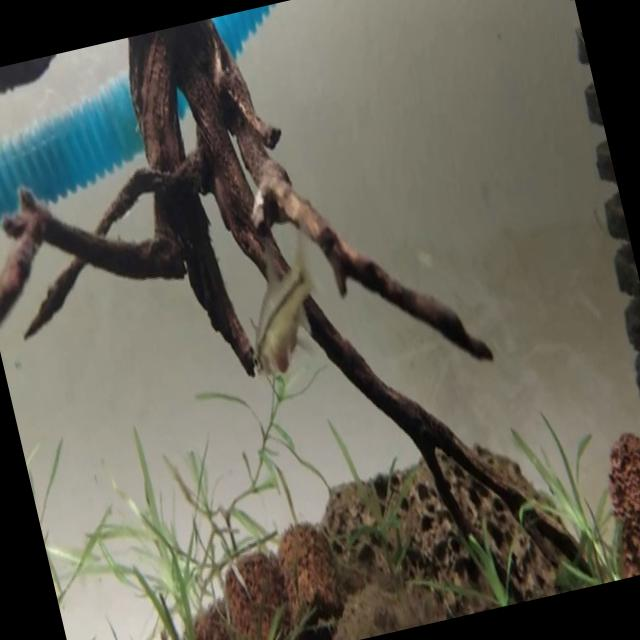Cakil Baligi: (217, 222, 336, 385)
